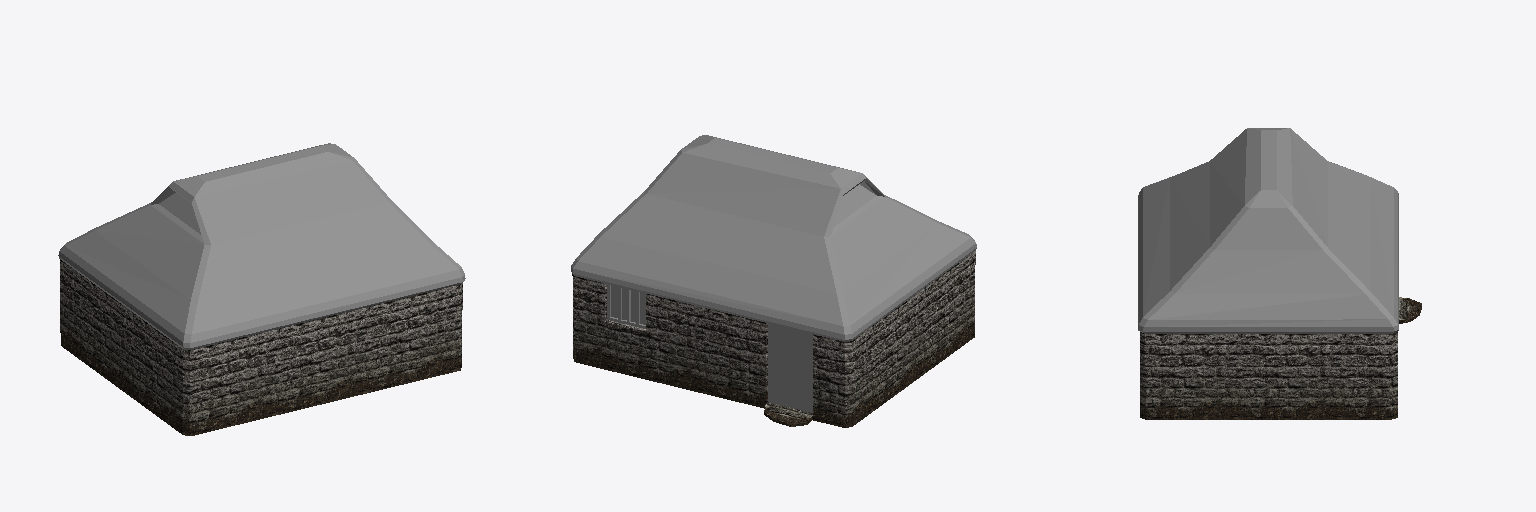
3 renders of one model, left to right at view 1: azimuth 30°, elevation 25°; view 2: azimuth 150°, elevation 25°; view 3: azimuth 270°, elevation 25°, orthographic.
Visible parts, largest first — view 1: poorfolks_cottage2_thatched_attached; view 2: poorfolks_cottage2_thatched_attached; view 3: poorfolks_cottage2_thatched_attached.
Part boxes in pixels (x1,y1,x2,y2): poorfolks_cottage2_thatched_attached: (58, 143, 465, 435); poorfolks_cottage2_thatched_attached: (571, 135, 976, 427); poorfolks_cottage2_thatched_attached: (1138, 128, 1421, 419).
Bounding box in the file's own units: 646 × 421 × 566.
5 materials, 1 textured.